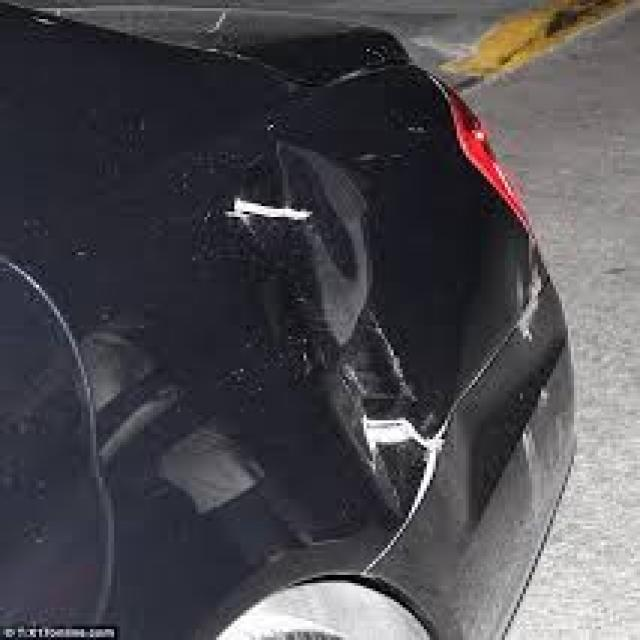minor: (149, 0, 570, 640)
